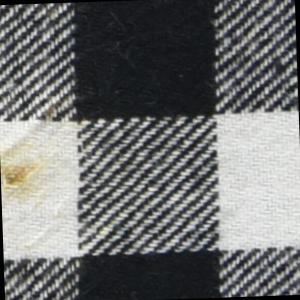Oil Stain: (1, 83, 87, 217)
